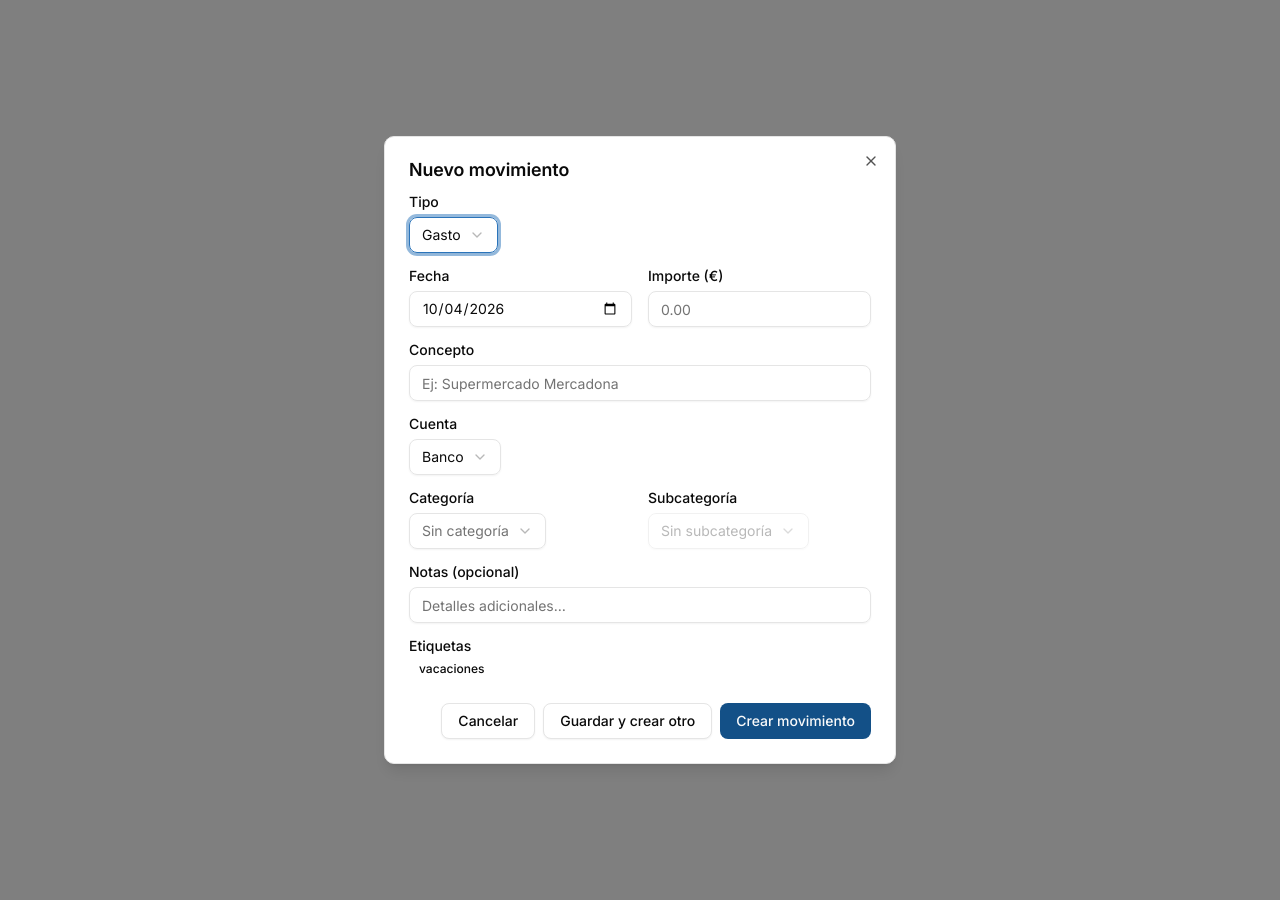
TransactionForm — transferencias › al pasar a transferencia renombra la cuenta a 'Cuenta origen'
expect the text "Cuenta" is shown: met, box [409,415,457,432]
Step 1. Click the dropdown named "Tipo" → (453, 235), box [409,217,498,253]
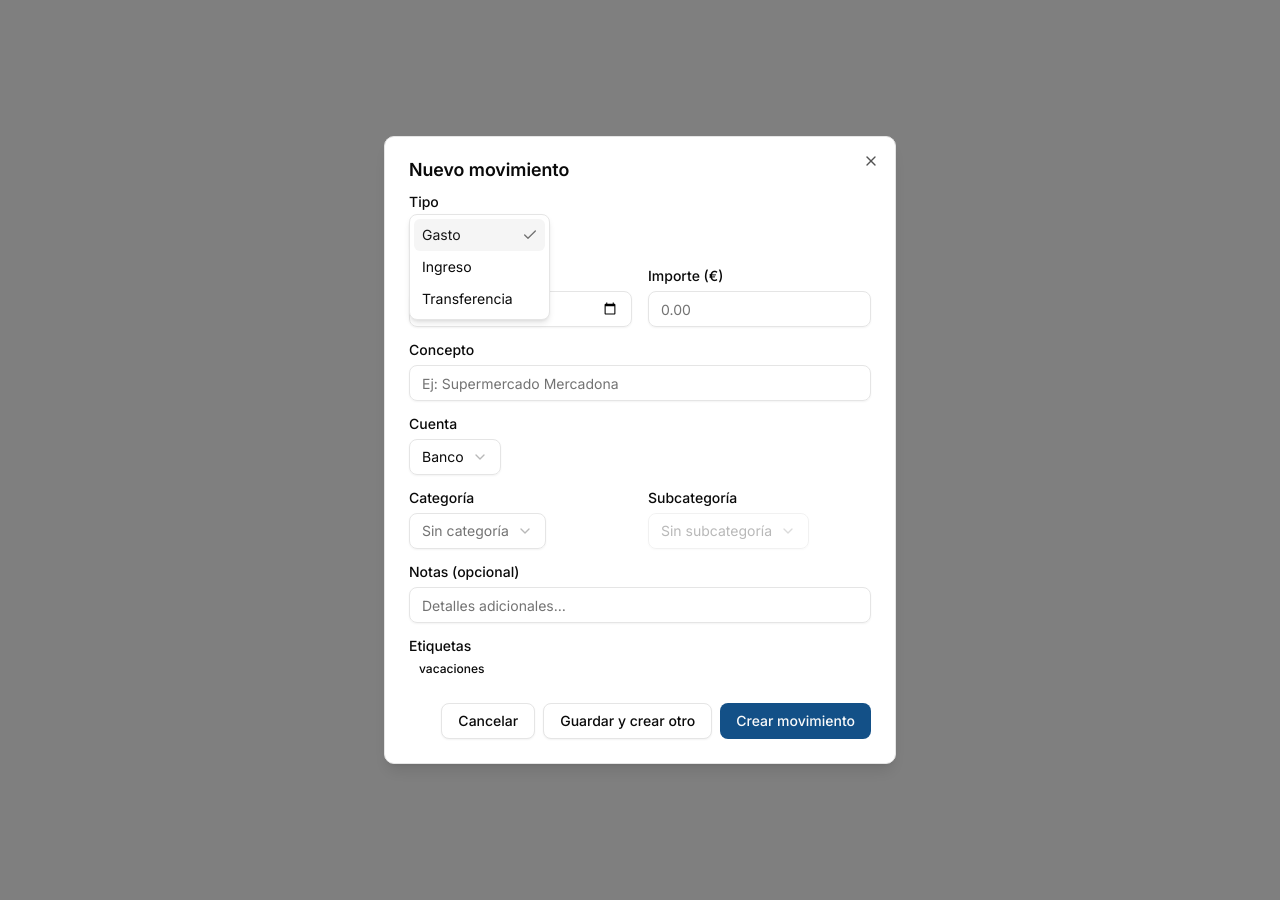
Step 2. Click the option "Transferencia" → (467, 298), box [422,290,513,307]
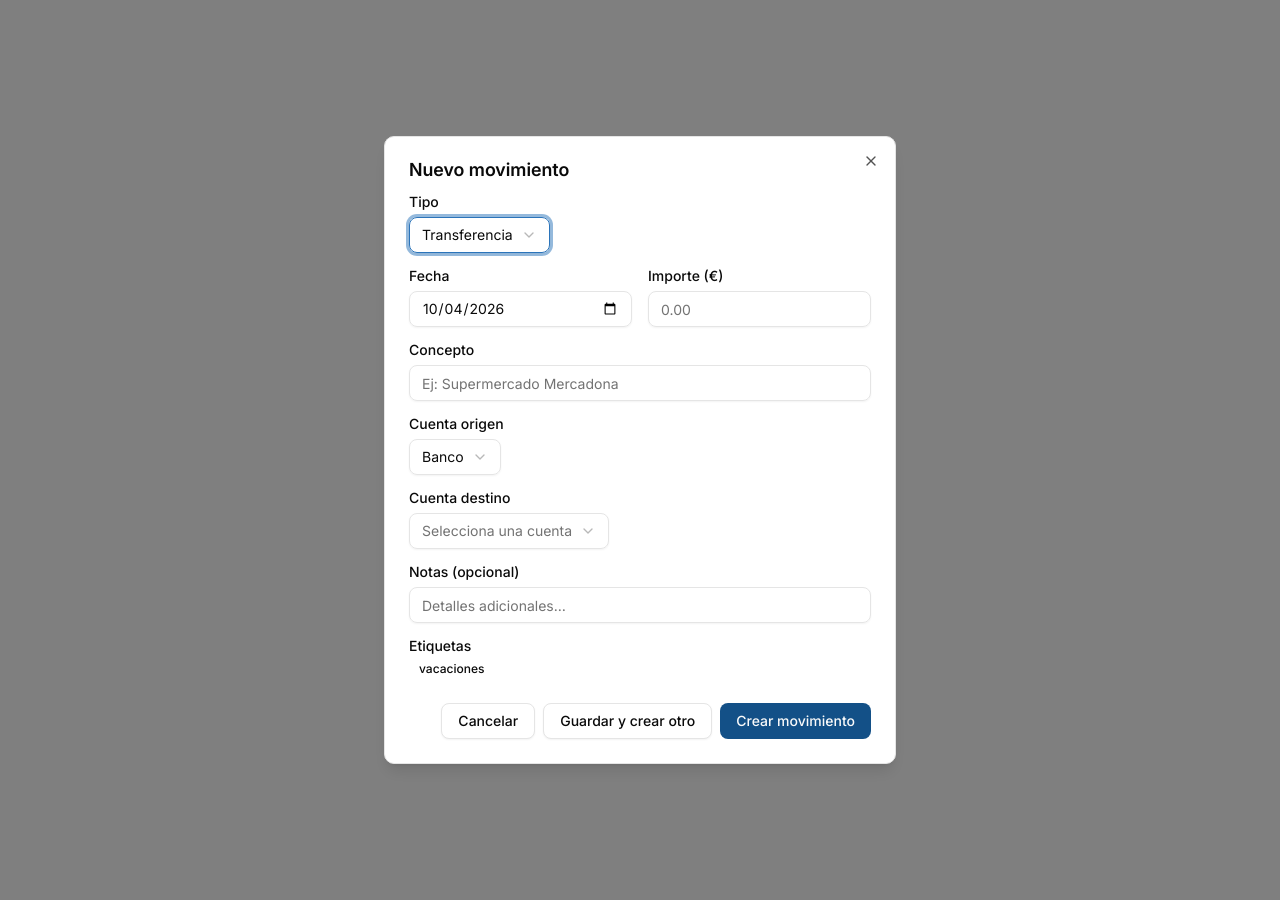
expect the text "Cuenta origen" is shown: met, box [409,415,504,432]
expect the text "Cuenta destino" is shown: met, box [409,489,510,506]
